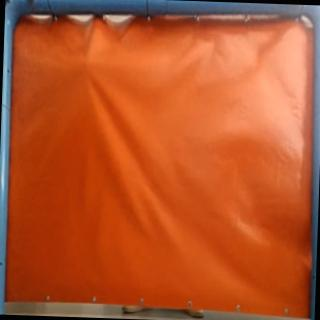Hit-hRxx: (76, 53, 95, 71)
